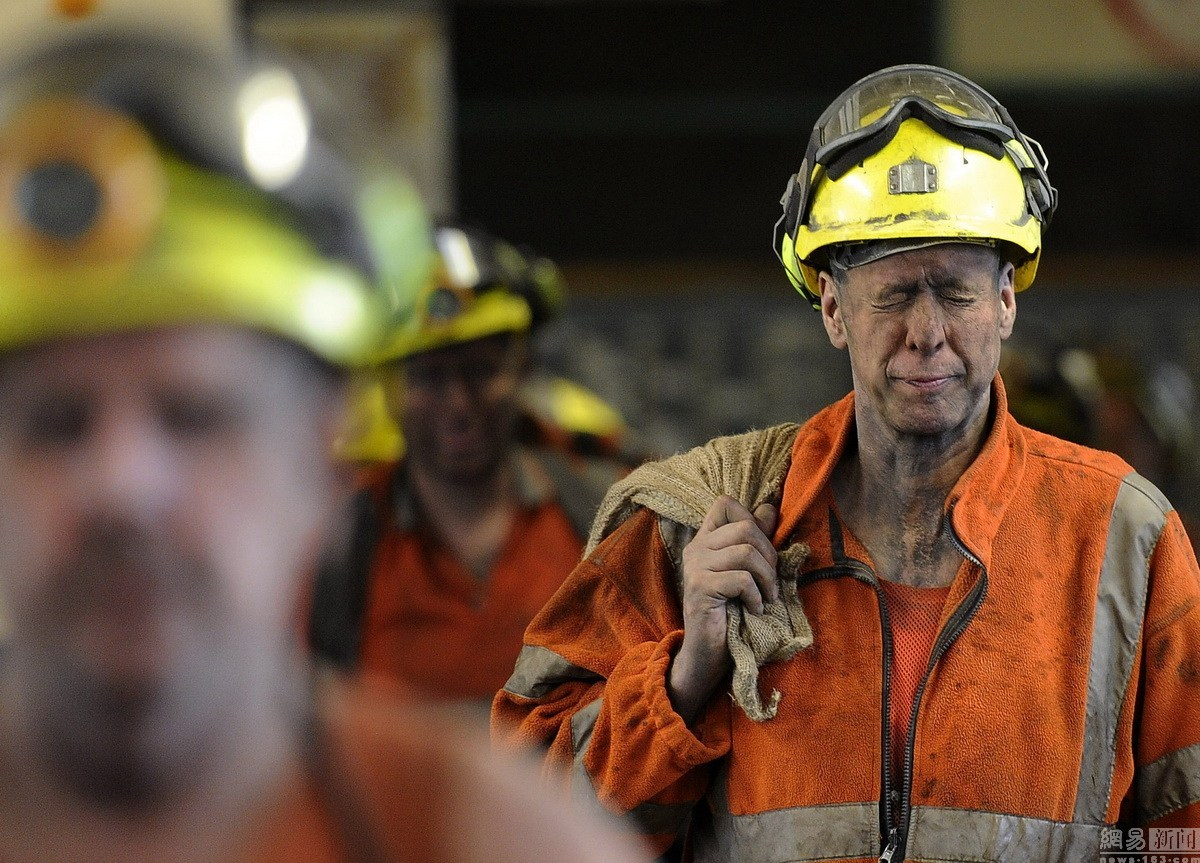helmet: (777, 63, 1064, 438)
